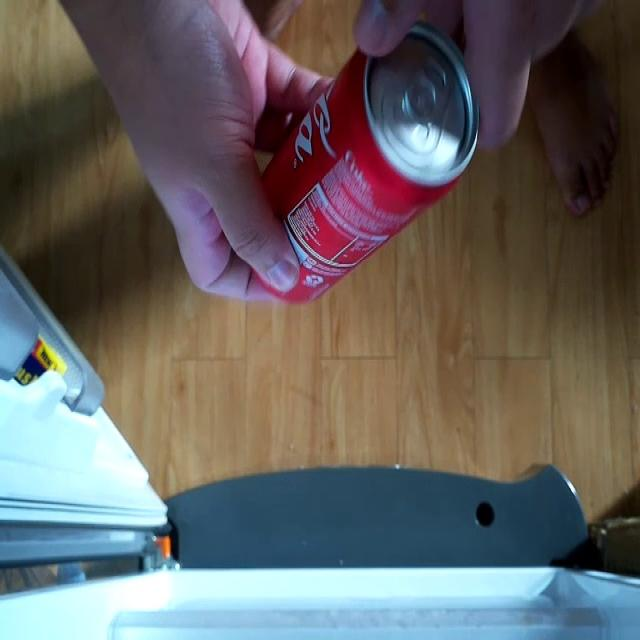coke: (229, 27, 484, 306)
